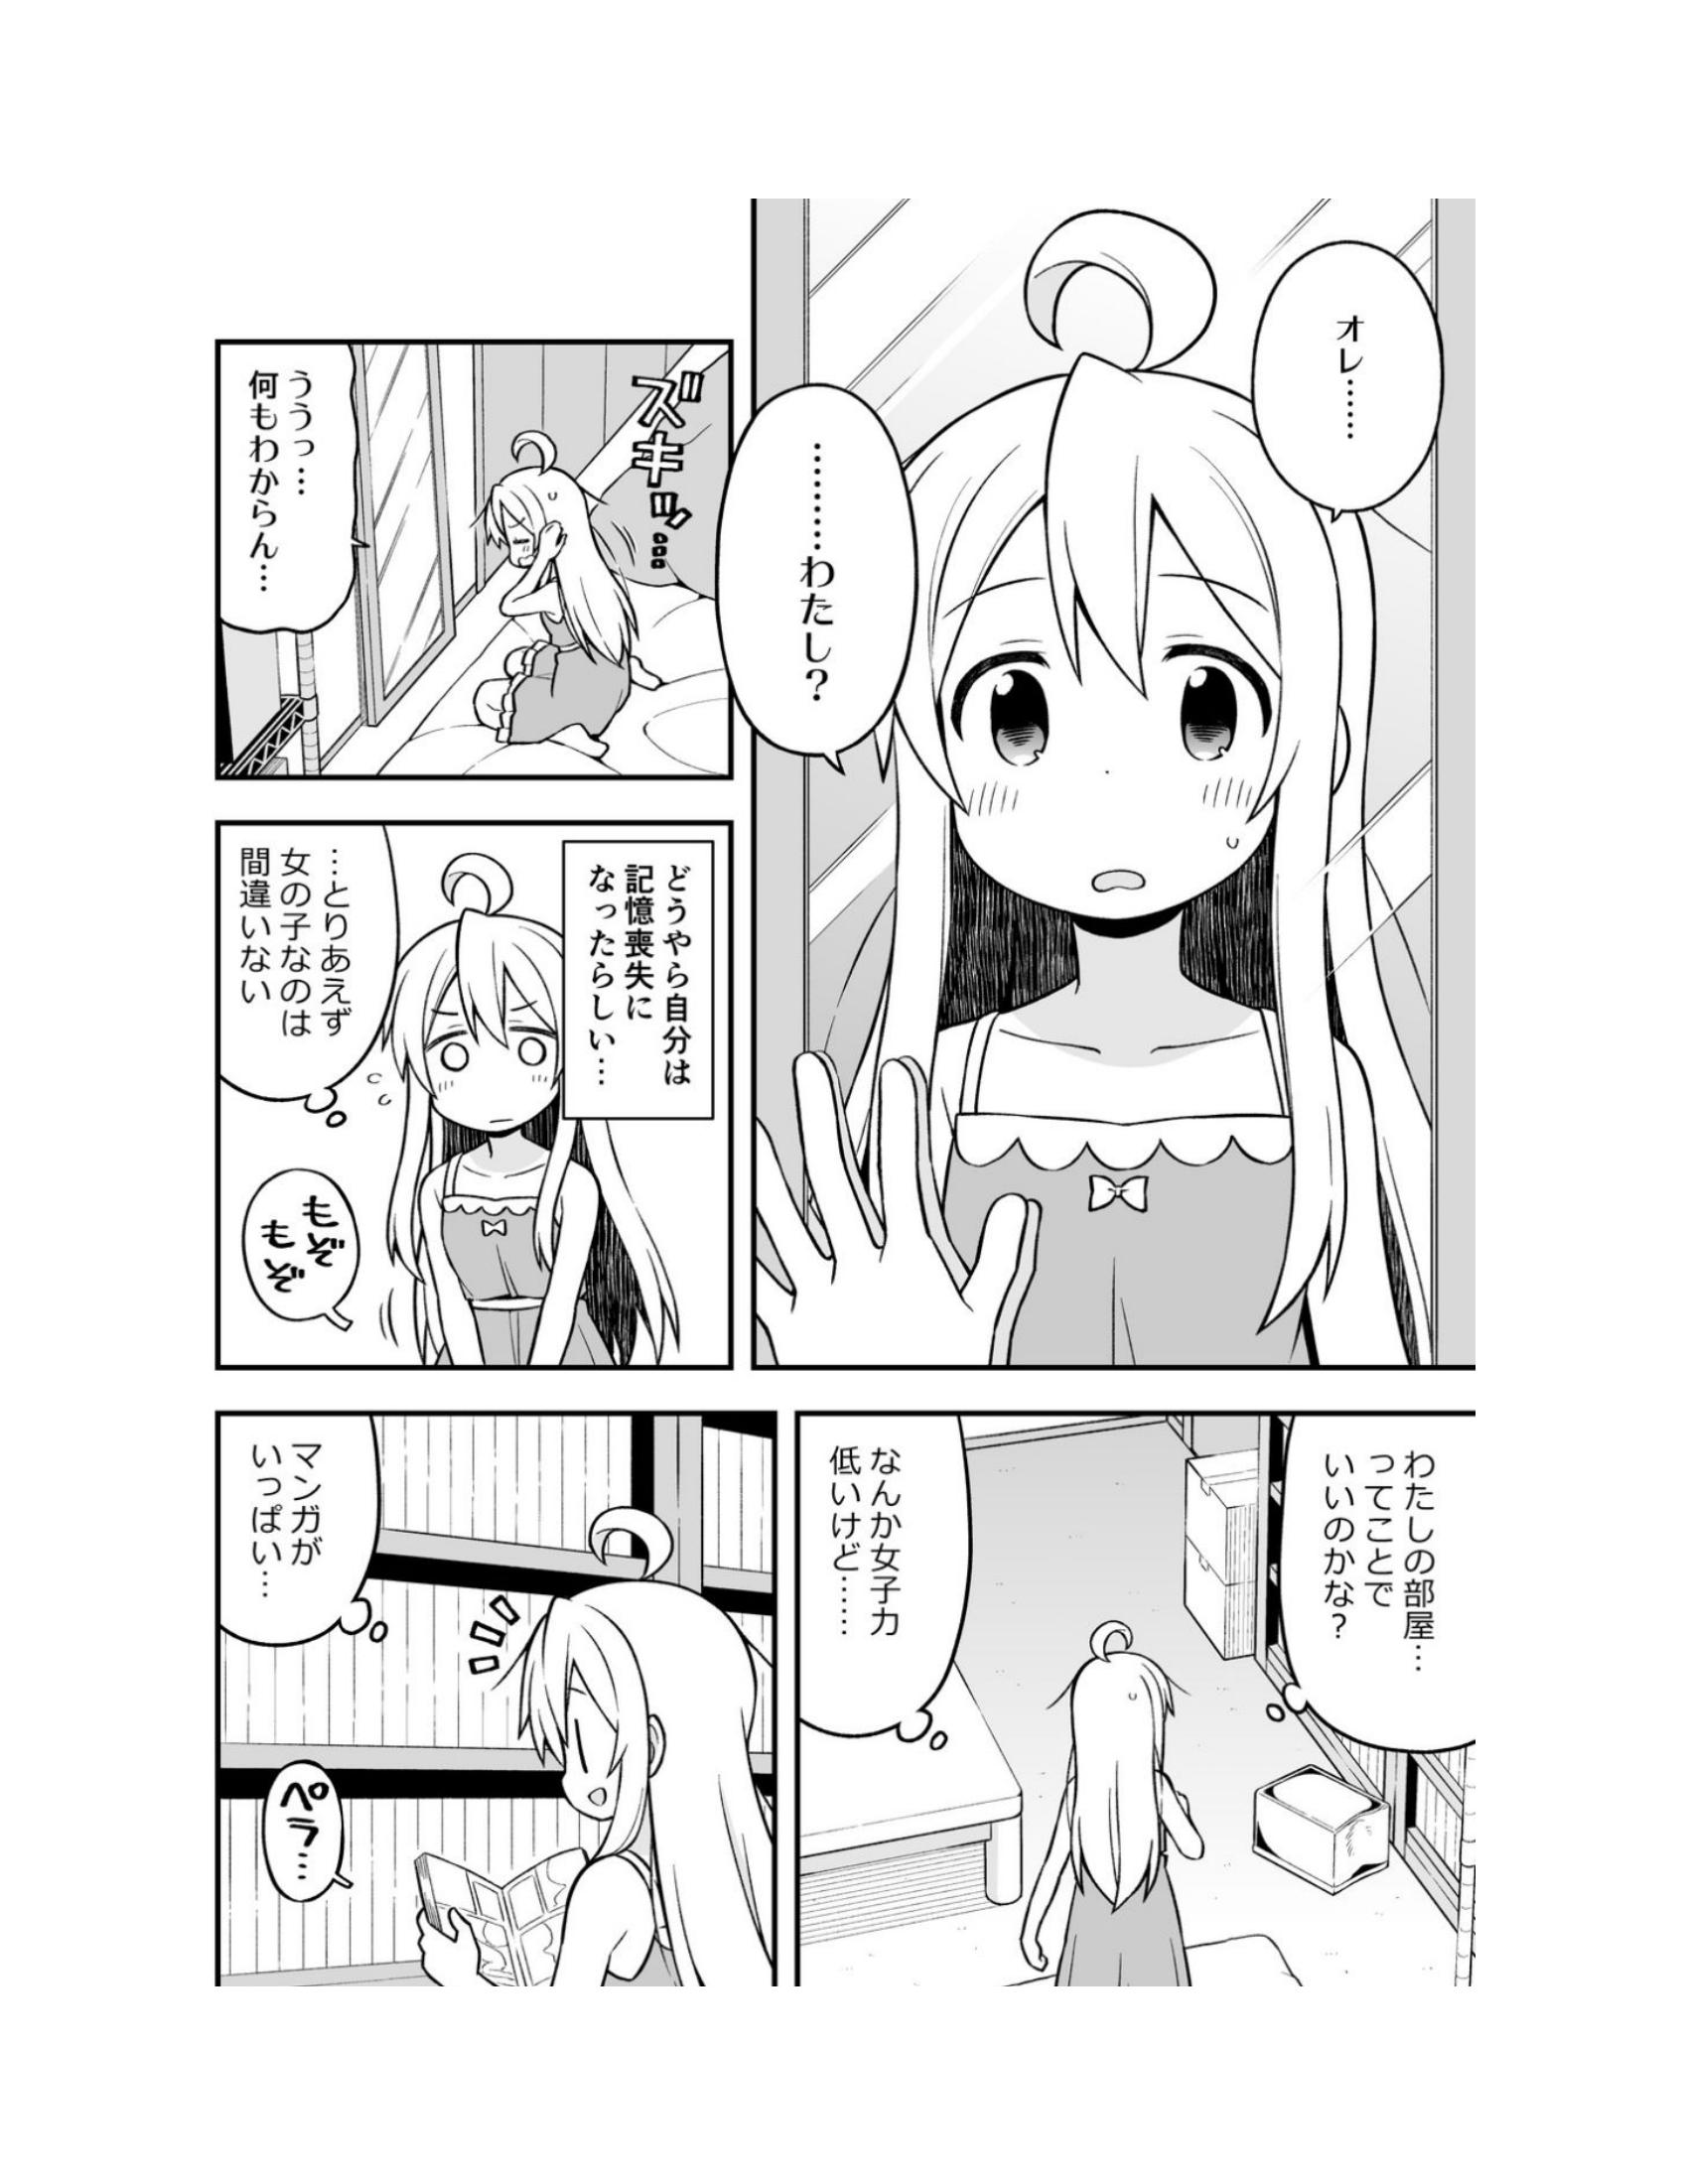a: (739, 370, 957, 817), (1268, 1390, 1463, 1743), (541, 808, 729, 1135), (807, 1420, 972, 1780), (215, 814, 410, 1117), (207, 1400, 413, 1649), (223, 333, 372, 656), (215, 1172, 406, 1312)
